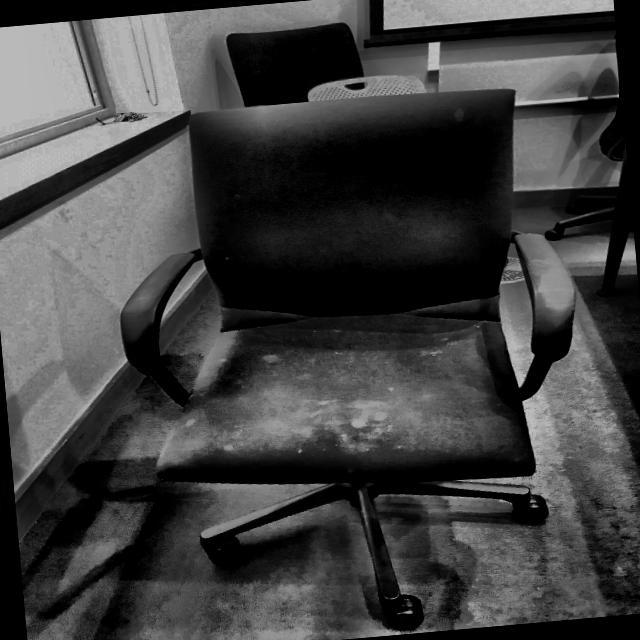chair: (97, 72, 610, 640)
